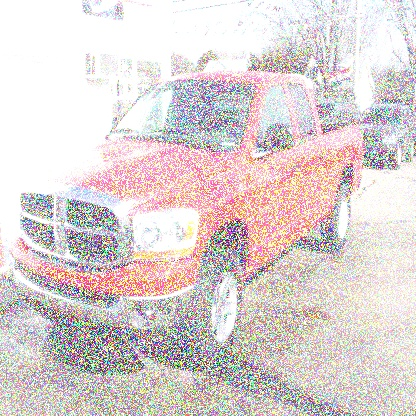Vehicle: (10, 72, 364, 366)
